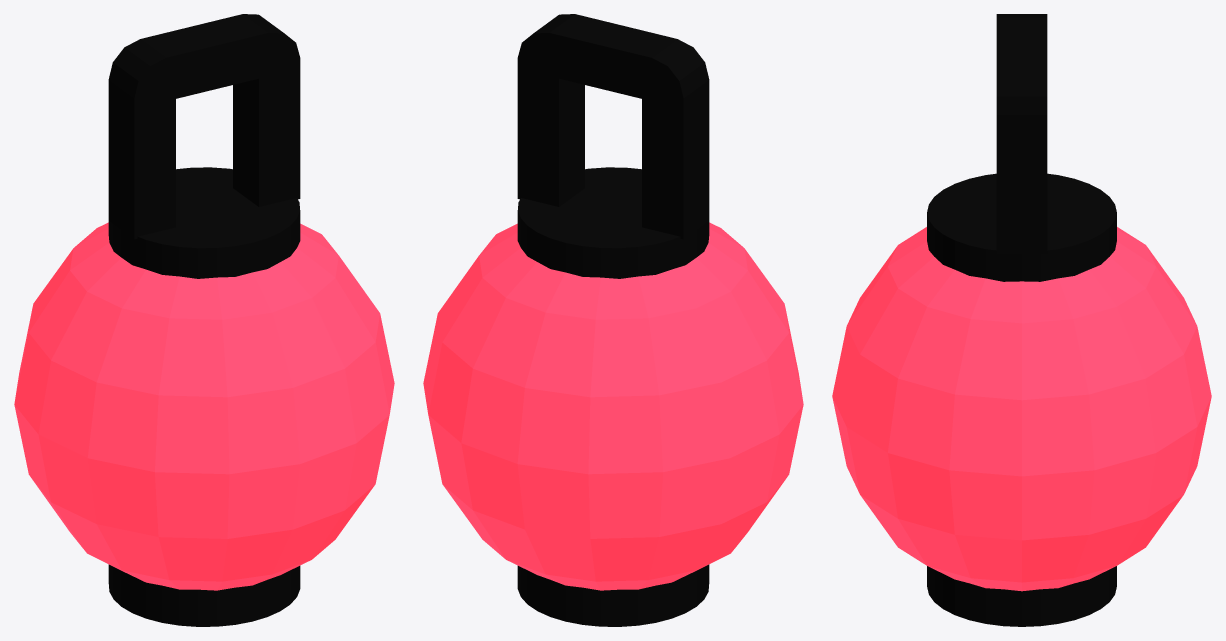
File: lantern-by-jmhde-ilX8qIYEfL.glb
The picture shows the model from 3 angles, left to right: view 1: azimuth 30°, elevation 25°; view 2: azimuth 150°, elevation 25°; view 3: azimuth 270°, elevation 25°; orthographic projection.
Visible parts, largest first — view 1: Sphere, Cube, Circle; view 2: Sphere, Cube, Circle; view 3: Sphere, Circle, Cube.
Part boxes in pixels (<box>): Sphere: <box>14,222,394,590</box>; Cube: <box>108,14,300,239</box>; Circle: <box>108,167,300,626</box>; Sphere: <box>423,222,803,590</box>; Cube: <box>517,14,709,239</box>; Circle: <box>517,167,709,626</box>; Sphere: <box>832,227,1211,591</box>; Circle: <box>927,173,1116,626</box>; Cube: <box>996,14,1047,253</box>.
Size of the model in its own units: 2 by 3.17 by 2.
